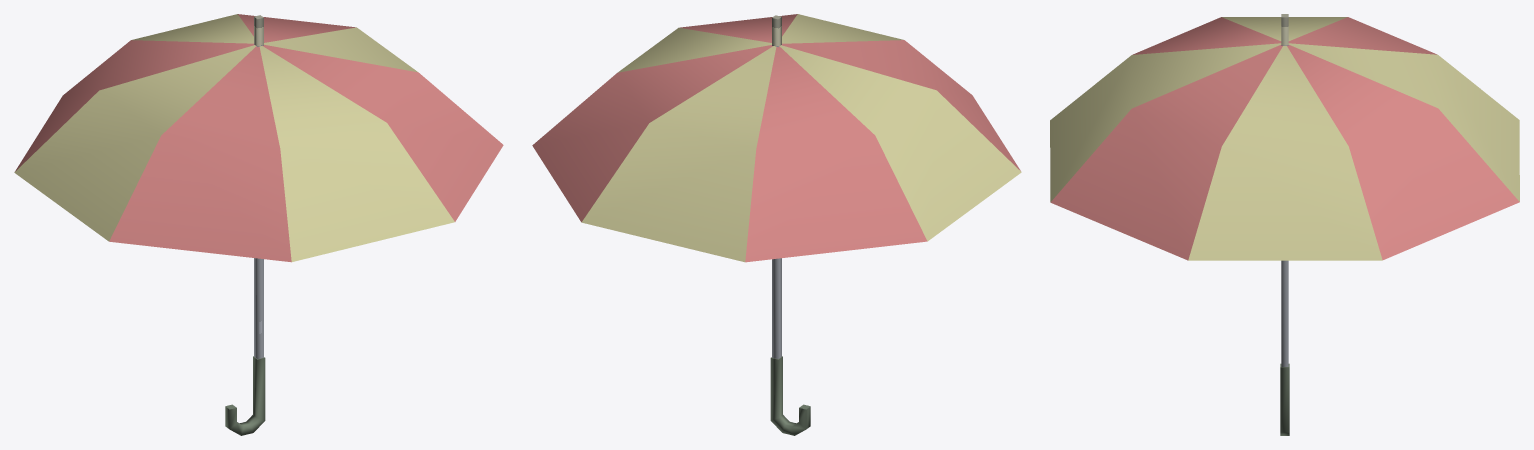
The model's file is 03f7_Jumbo_Umbrella.glb.
3 renders of one model, left to right at view 1: azimuth 30°, elevation 25°; view 2: azimuth 150°, elevation 25°; view 3: azimuth 270°, elevation 25°, orthographic. The views are drawn at different scales.
Visible parts, largest first — view 1: part_0; view 2: part_0; view 3: part_0.
Boxes of the visible parts, left/top/right/bottom form: part_0: left=14, top=14, right=503, bottom=435; part_0: left=532, top=14, right=1021, bottom=435; part_0: left=1050, top=14, right=1519, bottom=435.
Size of the model in its own units: 2.64 by 2.63 by 2.64.
1 material, 1 textured.
